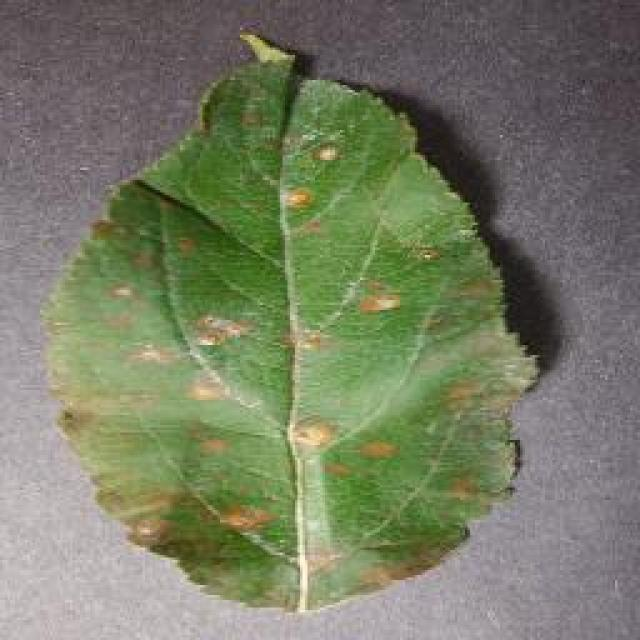Apple___Cedar_apple_rust: (60, 160, 518, 556)
